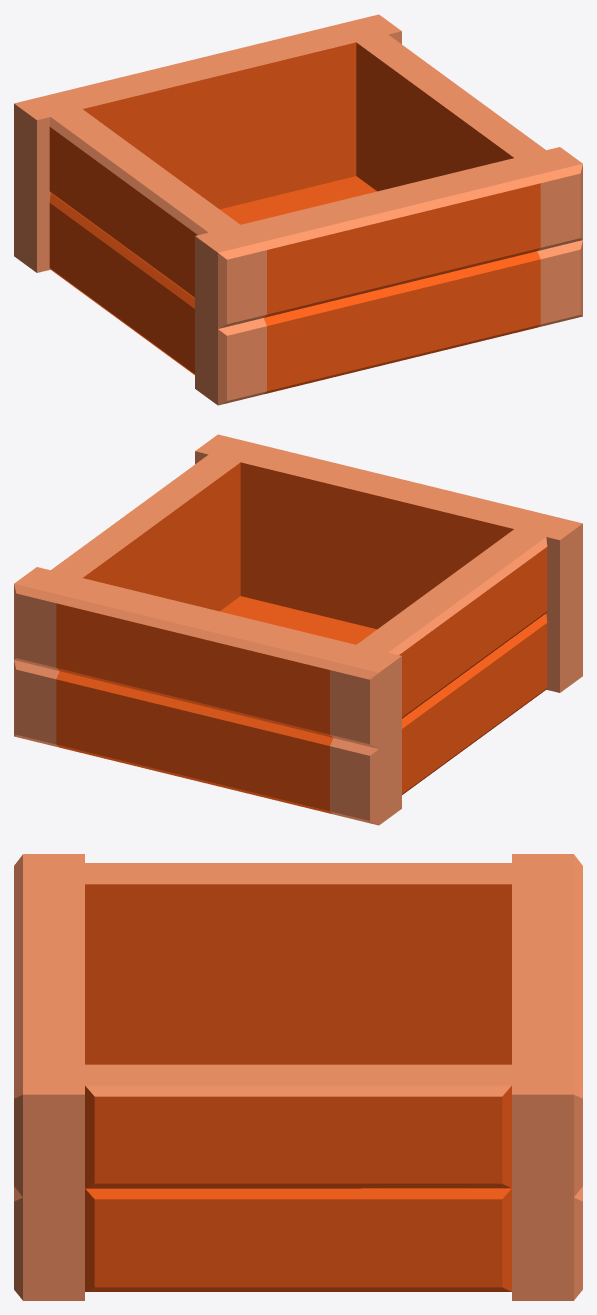
The model's file is bin.glb.
3 views of the same model, one above another, from view 1: azimuth 30°, elevation 25°; view 2: azimuth 150°, elevation 25°; view 3: azimuth 270°, elevation 25° (orthographic). The views are drawn at different scales.
Parts seen in each view (by area): view 1: BinMiddle, BinLeft, BinRight; view 2: BinMiddle, BinLeft, BinRight; view 3: BinRight, BinLeft, BinMiddle.
Boxes of the visible parts, left/top/right/bottom form: BinMiddle: left=60, top=25, right=540, bottom=394; BinLeft: left=14, top=92, right=266, bottom=405; BinRight: left=333, top=14, right=582, bottom=327; BinMiddle: left=56, top=445, right=536, bottom=814; BinLeft: left=330, top=512, right=582, bottom=825; BinRight: left=14, top=434, right=263, bottom=747; BinRight: left=14, top=1064, right=582, bottom=1300; BinLeft: left=14, top=854, right=582, bottom=1064; BinMiddle: left=14, top=884, right=582, bottom=1071.
Bounding box in the file's own units: 2 × 0.8 × 2.
